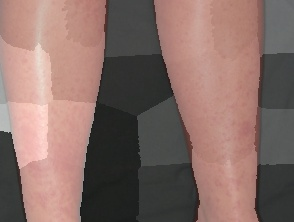SJS-TEN: (151, 0, 269, 222), (0, 0, 112, 222)
